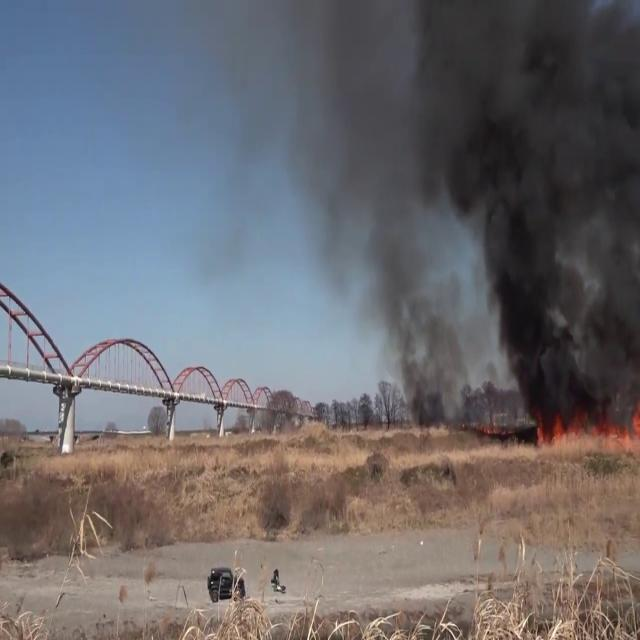Fire: (528, 396, 640, 448)
Smoke: (229, 0, 474, 414), (424, 0, 640, 416)
